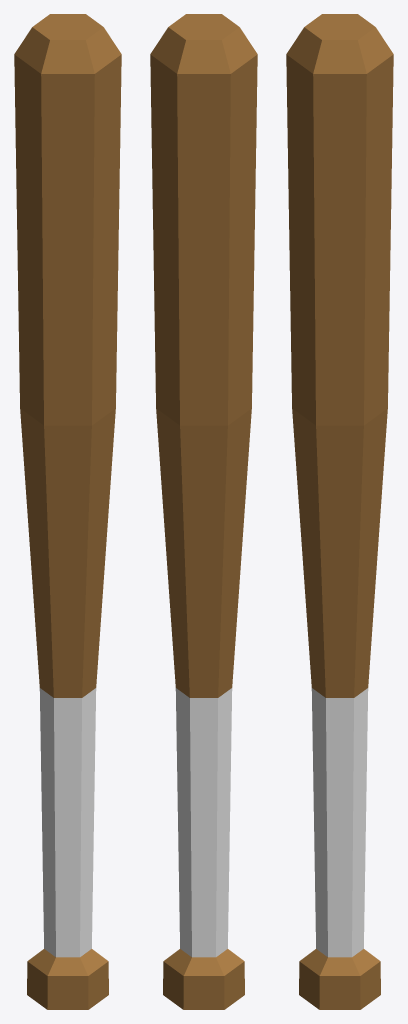
The model's file is baseball-bat.glb.
3 renders of one model, left to right at view 1: azimuth 90°, elevation 25°; view 2: azimuth 150°, elevation 25°; view 3: azimuth 270°, elevation 25°, orthographic.
Visible parts, largest first — view 1: baseball-bat; view 2: baseball-bat; view 3: baseball-bat.
Part boxes in pixels (left/top/right/bottom): baseball-bat: left=14, top=14, right=121, bottom=1009; baseball-bat: left=150, top=14, right=257, bottom=1009; baseball-bat: left=286, top=14, right=393, bottom=1009.
Bounding box in the file's own units: 0.0707 × 0.812 × 0.0817.
1 material, 1 textured.
